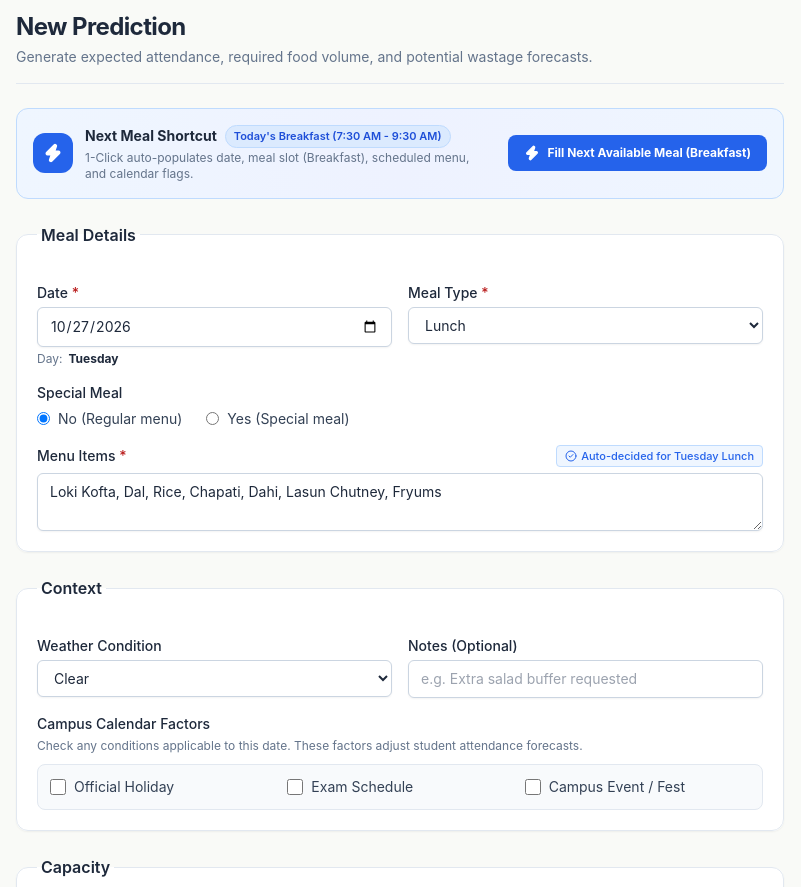
Test: NewPrediction Next Available Meal Shortcut (HCI Golden Rule 7) › permits easy reversal of shortcut via Undo button (HCI Golden Rule 6)
Click shortcut
Click the button "Fill Next Available Meal (Breakfast)": {"x": 637, "y": 153} [508,135,767,171]
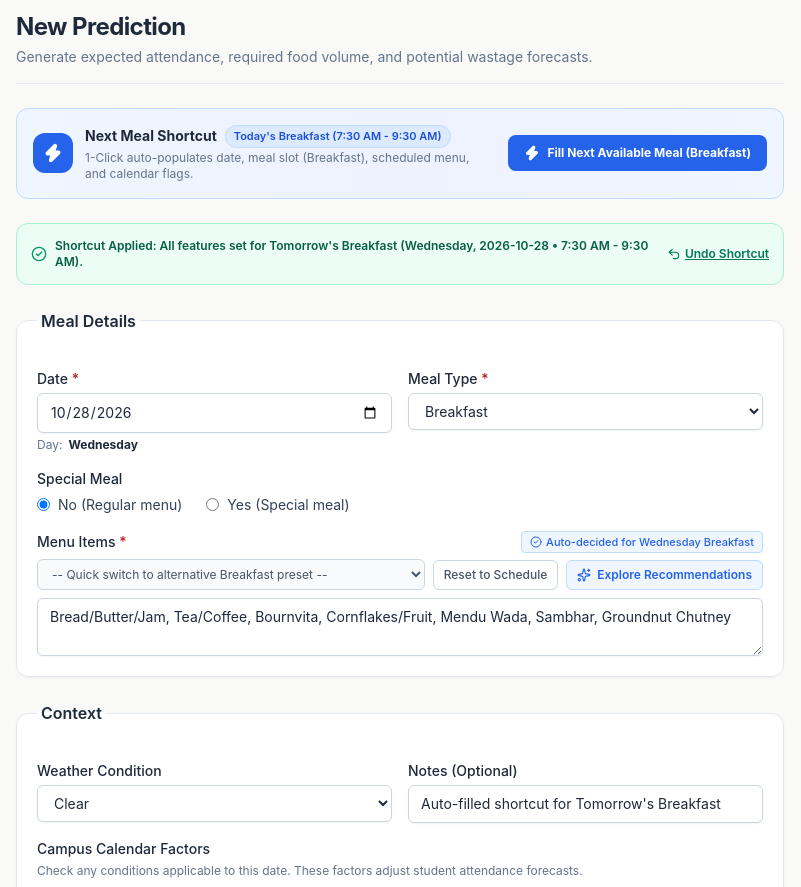
Now the text "Shortcut Applied:" is shown, box [55,238,648,268]
Click Undo Shortcut
Click the button "Undo Shortcut": {"x": 718, "y": 254} [667,246,769,262]
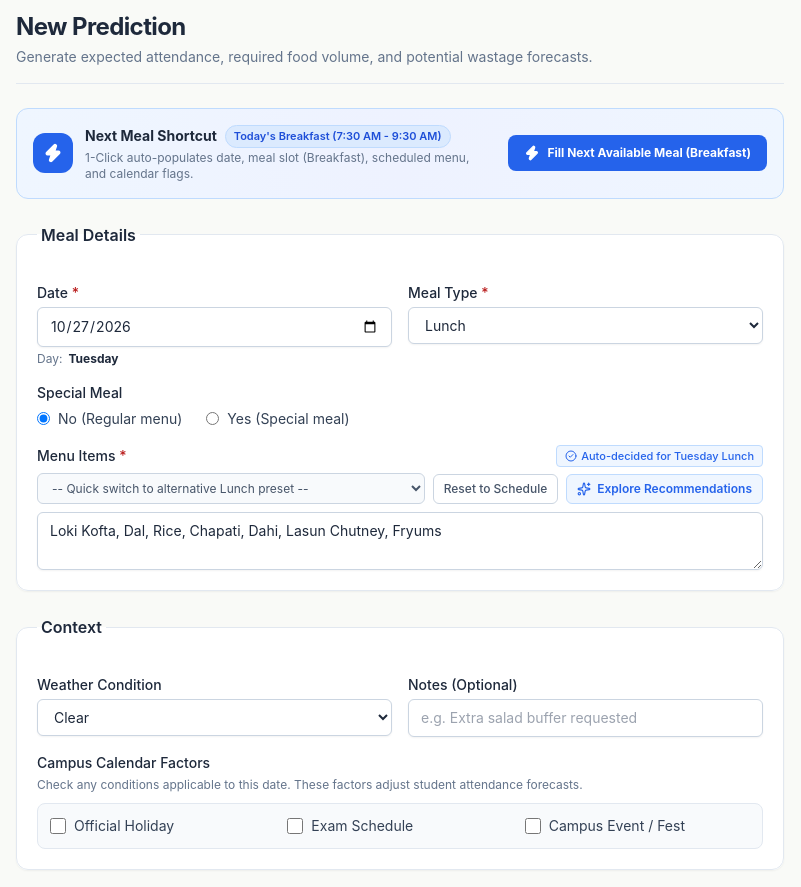
Now the date field labelled "Date *" holds "2026-10-27", box [37,306,392,346]
Now the text "Shortcut Applied:" is gone
